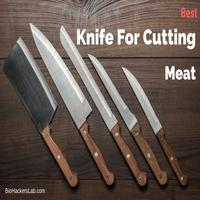knife: (3, 18, 191, 191)
